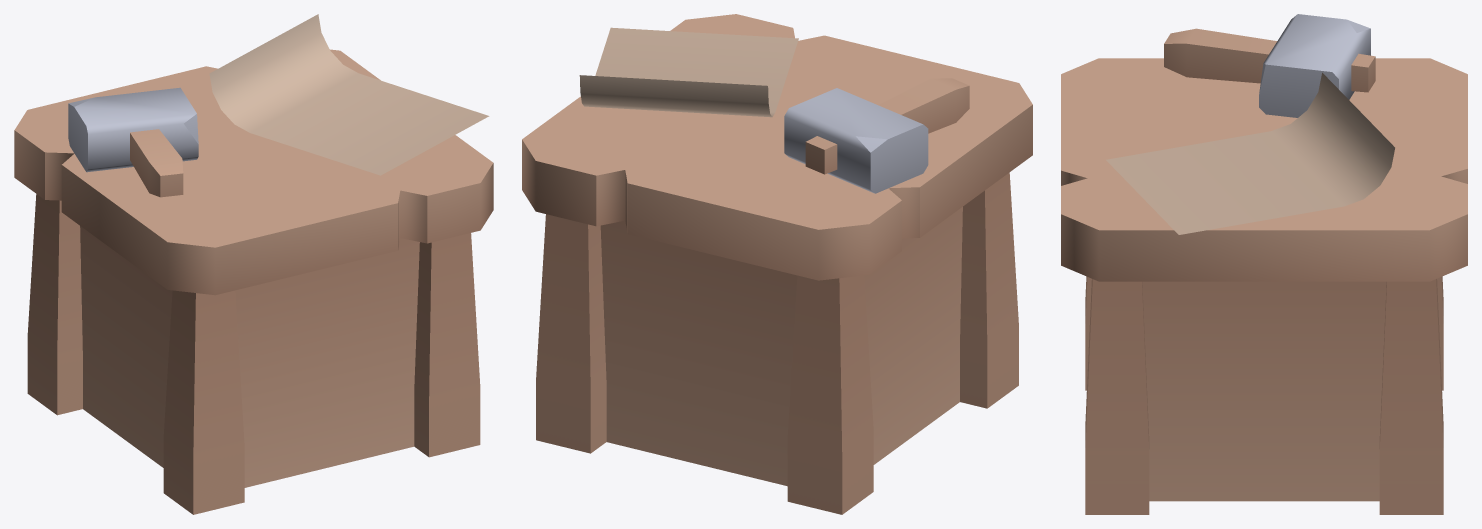
Rendered from workbench.glb.
The picture shows the model from 3 angles, left to right: view 1: azimuth 30°, elevation 25°; view 2: azimuth 150°, elevation 25°; view 3: azimuth 270°, elevation 25°; orthographic projection. The views are drawn at different scales.
Visible parts, largest first — view 1: workbench, paper, hammer; view 2: workbench, paper, hammer; view 3: workbench, paper, hammer.
Boxes of the visible parts, bbox=[...] form: workbench: bbox=[14, 49, 493, 514]; paper: bbox=[209, 14, 489, 175]; hammer: bbox=[68, 87, 198, 197]; workbench: bbox=[522, 14, 1032, 514]; paper: bbox=[579, 27, 798, 117]; hammer: bbox=[784, 78, 969, 193]; workbench: bbox=[1061, 58, 1467, 514]; paper: bbox=[1106, 72, 1394, 234]; hammer: bbox=[1164, 14, 1375, 117].
Bounding box in the file's own units: 0.3257 × 0.2866 × 0.2957.
